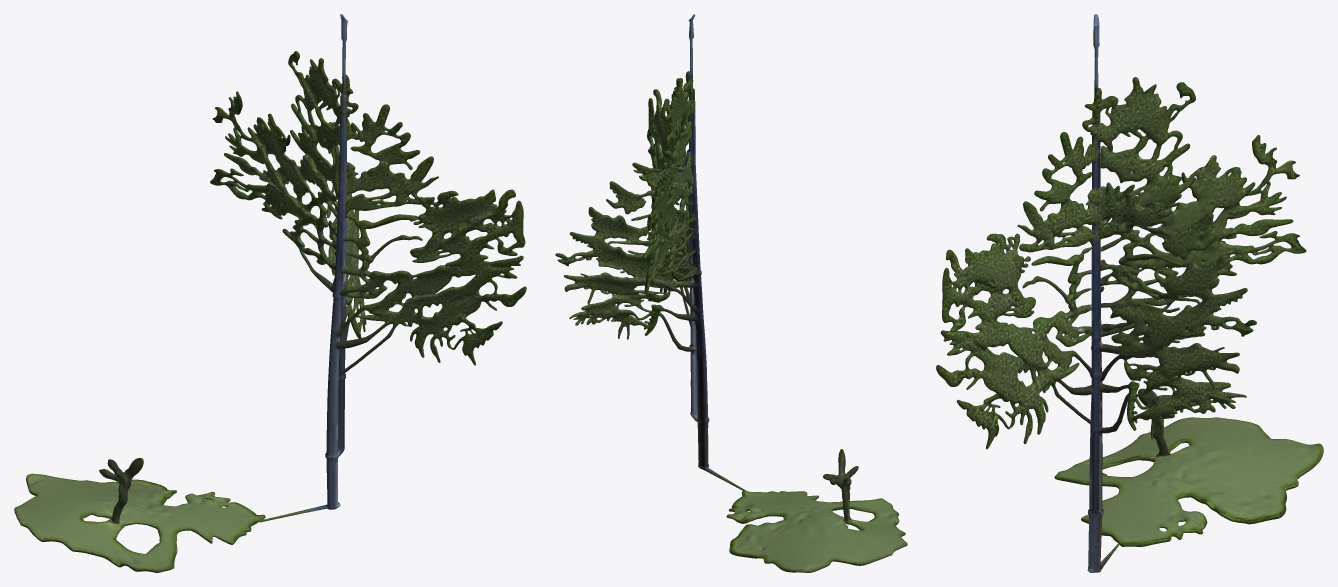
File: tree_skp.glb
The picture shows the model from 3 angles, left to right: view 1: azimuth 30°, elevation 25°; view 2: azimuth 150°, elevation 25°; view 3: azimuth 270°, elevation 25°; orthographic projection. The views are drawn at different scales.
Visible parts, largest first — view 1: tripo_node_1fc21fee-b994-47db-ab62-6d189d50f867; view 2: tripo_node_1fc21fee-b994-47db-ab62-6d189d50f867; view 3: tripo_node_1fc21fee-b994-47db-ab62-6d189d50f867.
Boxes of the visible parts, x1,y1,x2,y2 form: tripo_node_1fc21fee-b994-47db-ab62-6d189d50f867: [14, 14, 526, 572]; tripo_node_1fc21fee-b994-47db-ab62-6d189d50f867: [555, 14, 907, 572]; tripo_node_1fc21fee-b994-47db-ab62-6d189d50f867: [936, 14, 1323, 572].
Size of the model in its own units: 2.83 by 3.5 by 2.15.
1 material, 1 textured.
